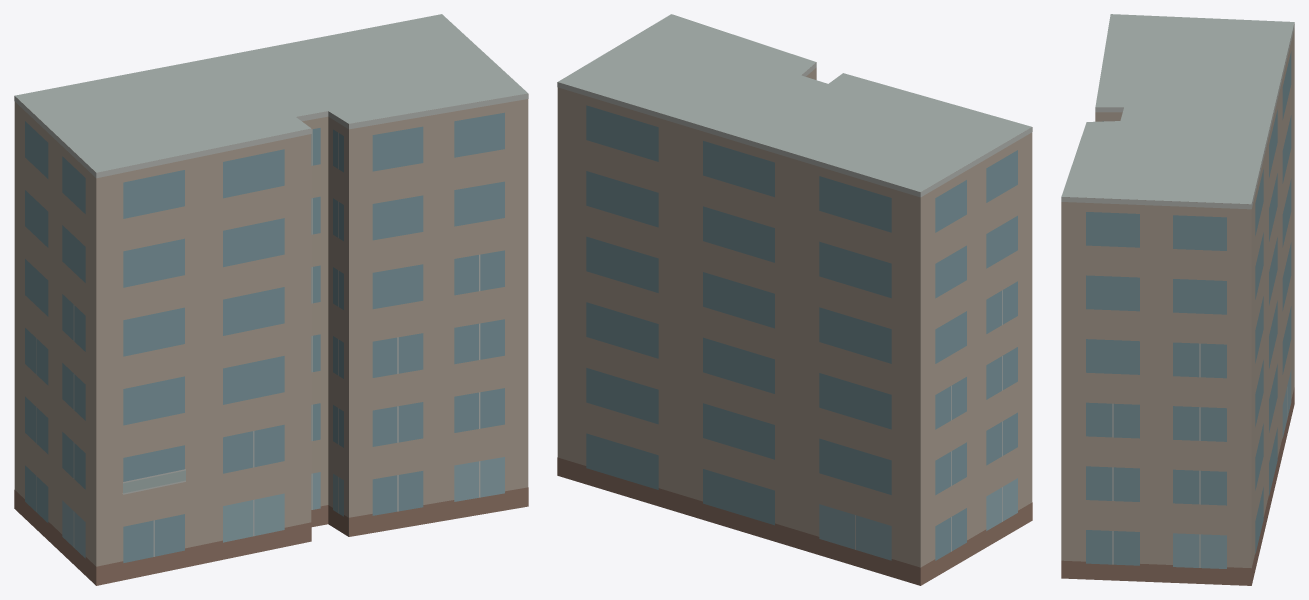
File: survey-upis-32981265.glb
The picture shows the model from 3 angles, left to right: view 1: azimuth 30°, elevation 25°; view 2: azimuth 150°, elevation 25°; view 3: azimuth 270°, elevation 25°; orthographic projection. The views are drawn at different scales.
Visible parts, largest first — view 1: survey-upis-32981265.tmp; view 2: survey-upis-32981265.tmp; view 3: survey-upis-32981265.tmp.
Boxes of the visible parts, left/top/right/bottom form: survey-upis-32981265.tmp: left=14, top=14, right=528, bottom=585; survey-upis-32981265.tmp: left=557, top=14, right=1032, bottom=585; survey-upis-32981265.tmp: left=1061, top=14, right=1294, bottom=585.
Bounding box in the file's own units: 19.57 × 18.3 × 10.15.
